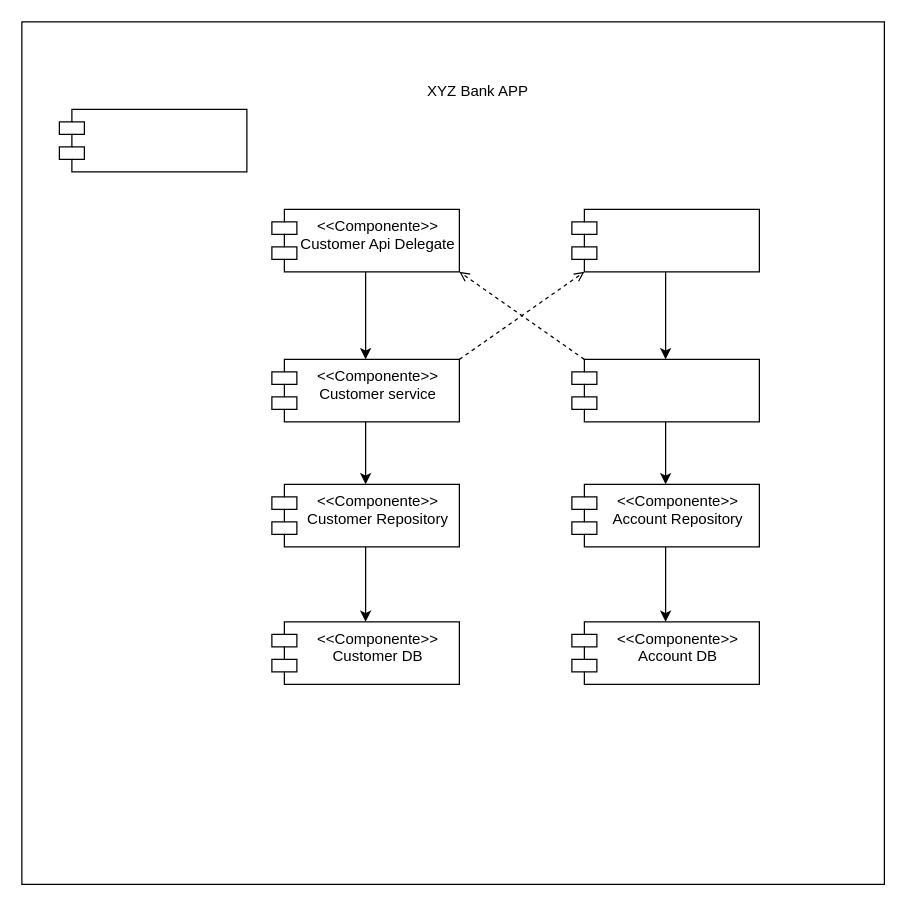
Some shapes in this 906 by 906 pixel diagram are drawn without their labels. Here are the shapes that lost their labels. From the top down, the centre of each, then its label:
At point (152, 140): "<<Componente>> Registry service".
At point (665, 240): "<<Componente>> Account Api Delegate".
At point (665, 390): "<<Componente>> Account service".
